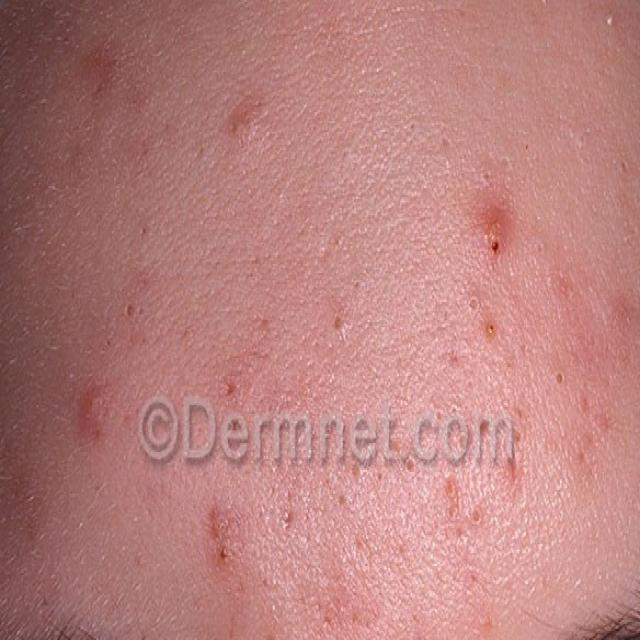Acne: (395, 88, 640, 564), (93, 369, 468, 640), (213, 233, 400, 349), (213, 65, 277, 211), (72, 15, 132, 119)
